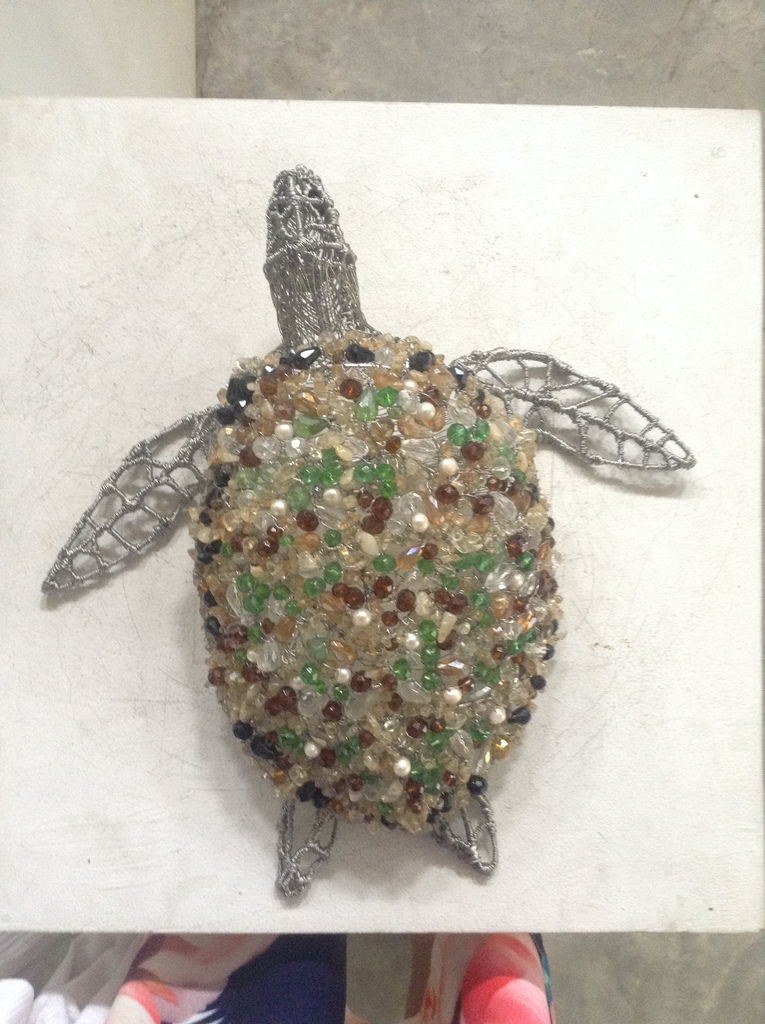Sea turtles: (38, 165, 693, 895)
